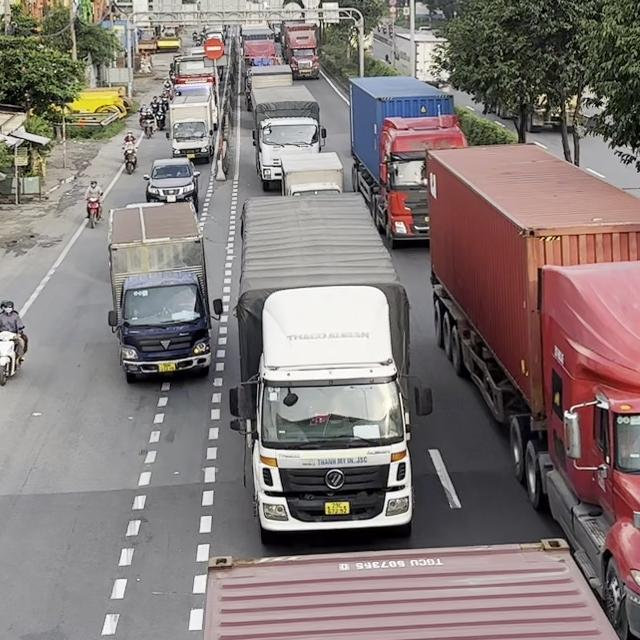car: (142, 157, 200, 211)
motorcycle: (0, 330, 23, 386), (121, 137, 139, 174), (85, 194, 103, 229), (141, 116, 156, 138)
truck: (427, 142, 640, 640), (225, 190, 431, 542), (106, 200, 222, 383), (348, 74, 468, 248), (250, 84, 327, 191), (169, 94, 213, 163), (278, 151, 345, 196), (243, 63, 293, 111), (281, 21, 320, 79)
